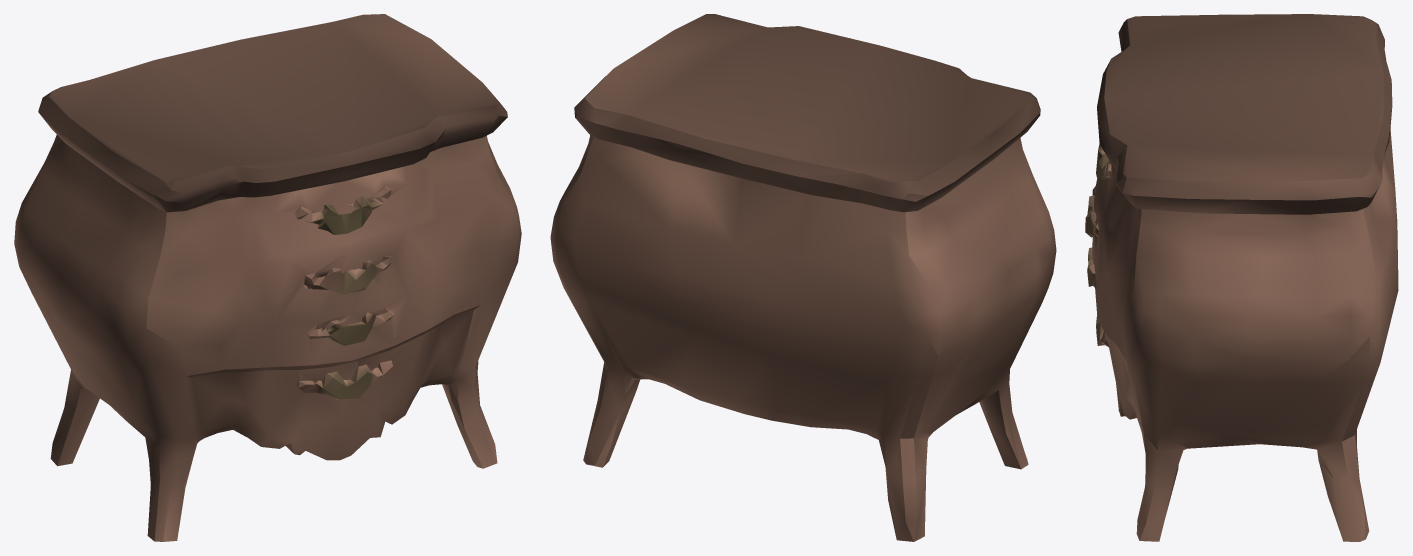
The model's file is Chest01.fbx.
3 views of the same model, side by side, from view 1: azimuth 30°, elevation 25°; view 2: azimuth 150°, elevation 25°; view 3: azimuth 270°, elevation 25° (orthographic).
Visible parts, largest first — view 1: Chest01; view 2: Chest01; view 3: Chest01.
Boxes of the visible parts, bbox=[...] form: Chest01: bbox=[14, 14, 521, 541]; Chest01: bbox=[550, 14, 1056, 541]; Chest01: bbox=[1085, 14, 1398, 541].
Bounding box in the file's own units: 125 × 106 × 82.03.
